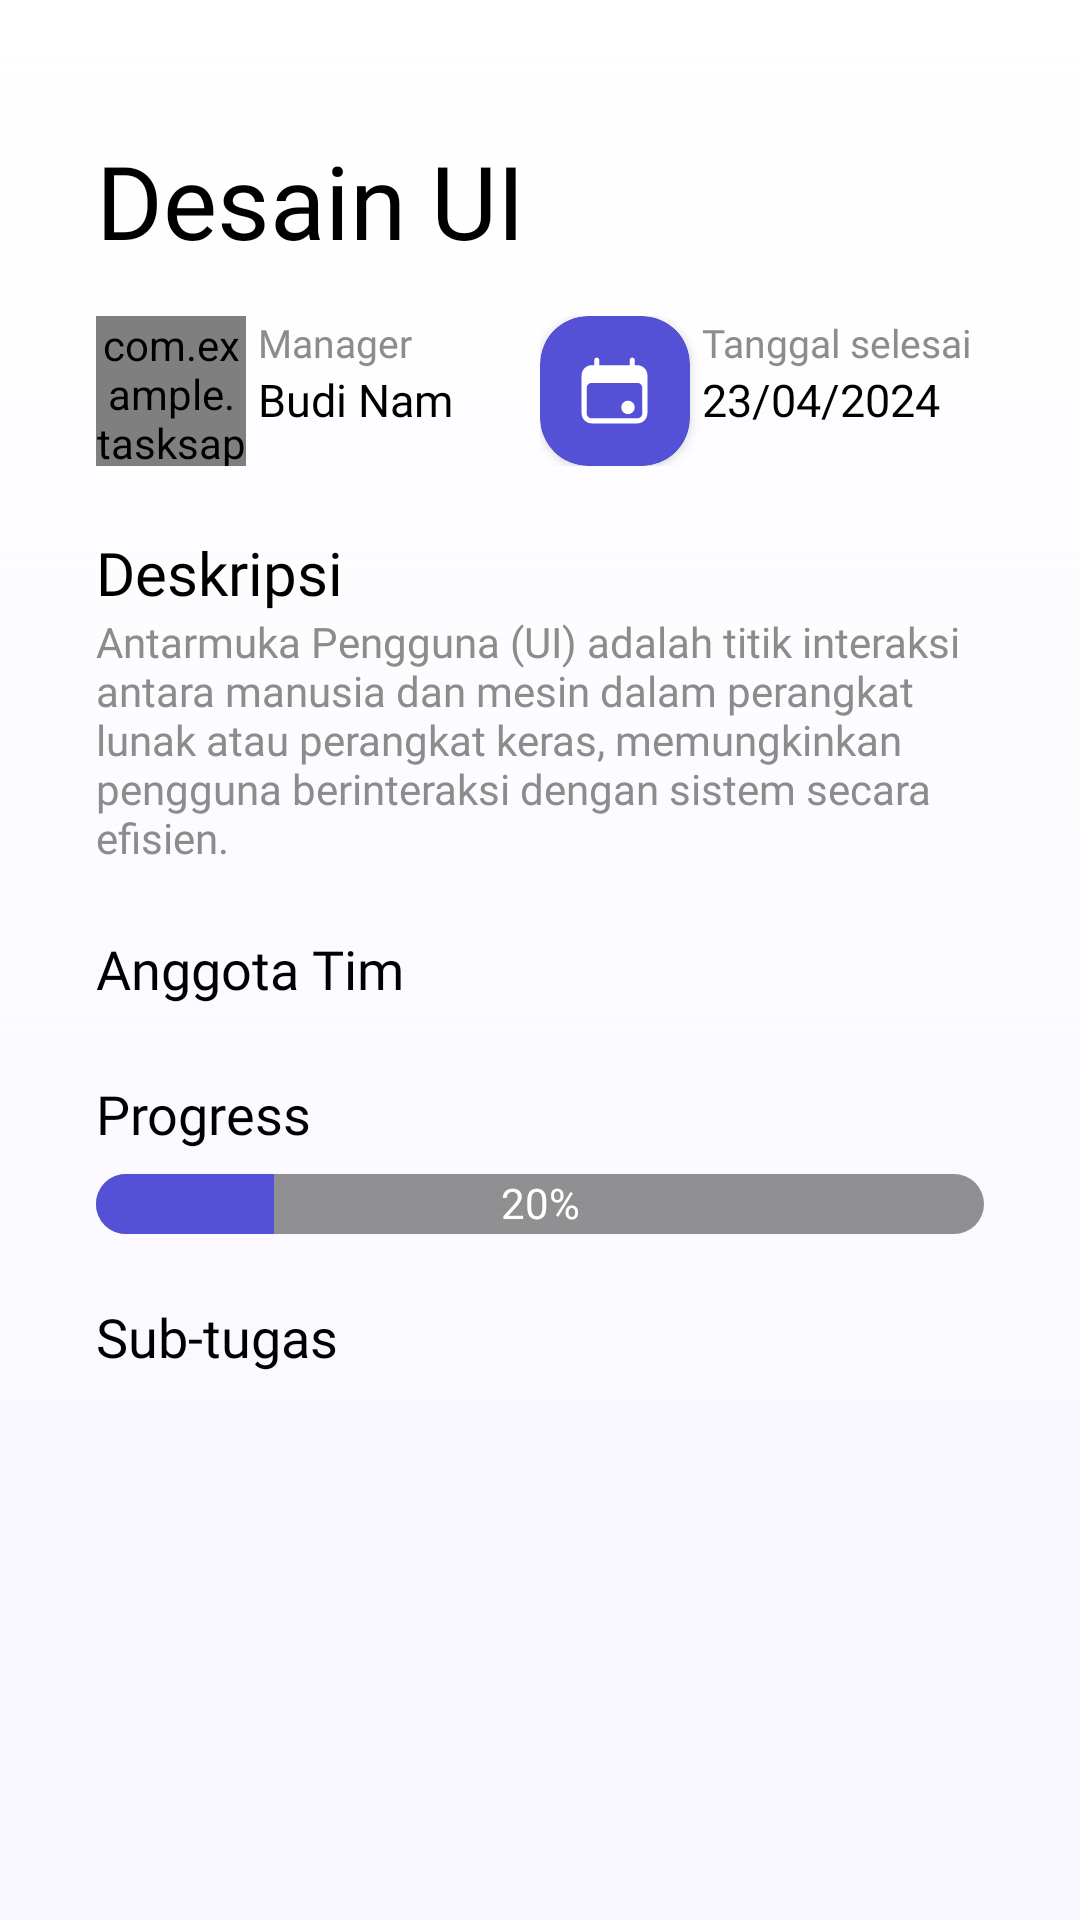

Locate icon controls on the screen. Image size 1080px x 1920px, boxes as (x1, y1, x2, y2).
Icon Calendar: (581, 357, 648, 424)
